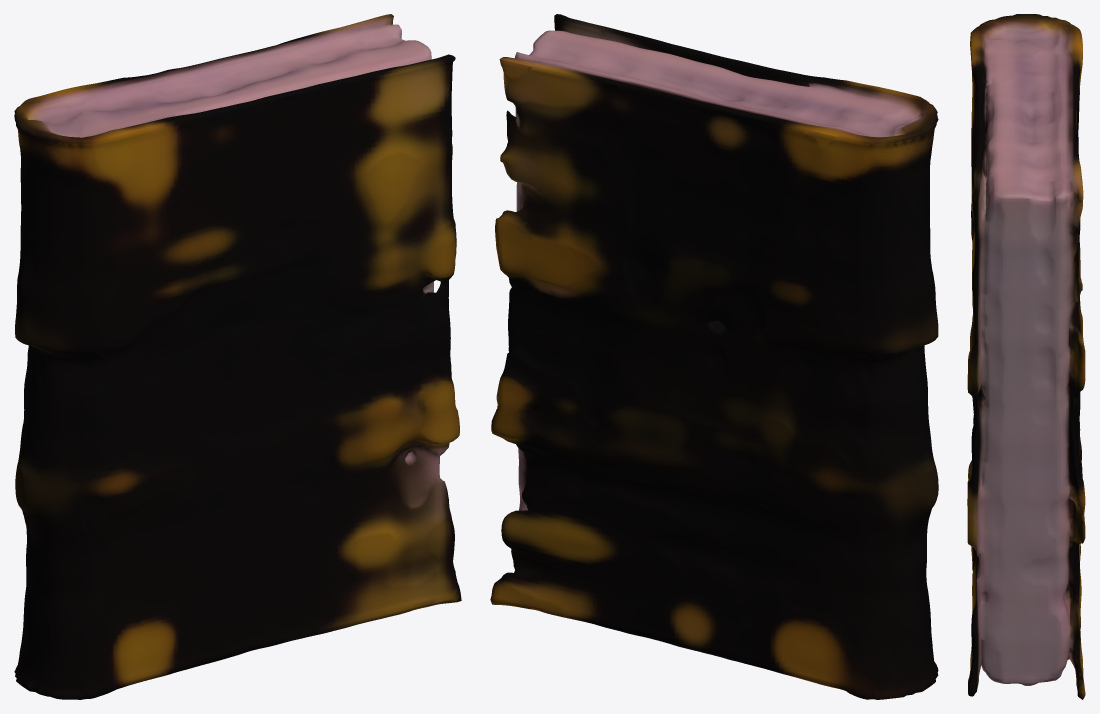
File: 12_A book_XXX.FBX
3 views of the same model, side by side, from view 1: azimuth 30°, elevation 25°; view 2: azimuth 150°, elevation 25°; view 3: azimuth 270°, elevation 25° (orthographic). The views are drawn at different scales.
Visible parts, largest first — view 1: plyFile; view 2: plyFile; view 3: plyFile.
Boxes of the visible parts, x1,y1,x2,y2 form: plyFile: (14, 14, 461, 699); plyFile: (490, 14, 938, 699); plyFile: (967, 14, 1085, 699).
Bounding box in the file's own units: 153 × 198 × 41.55.
